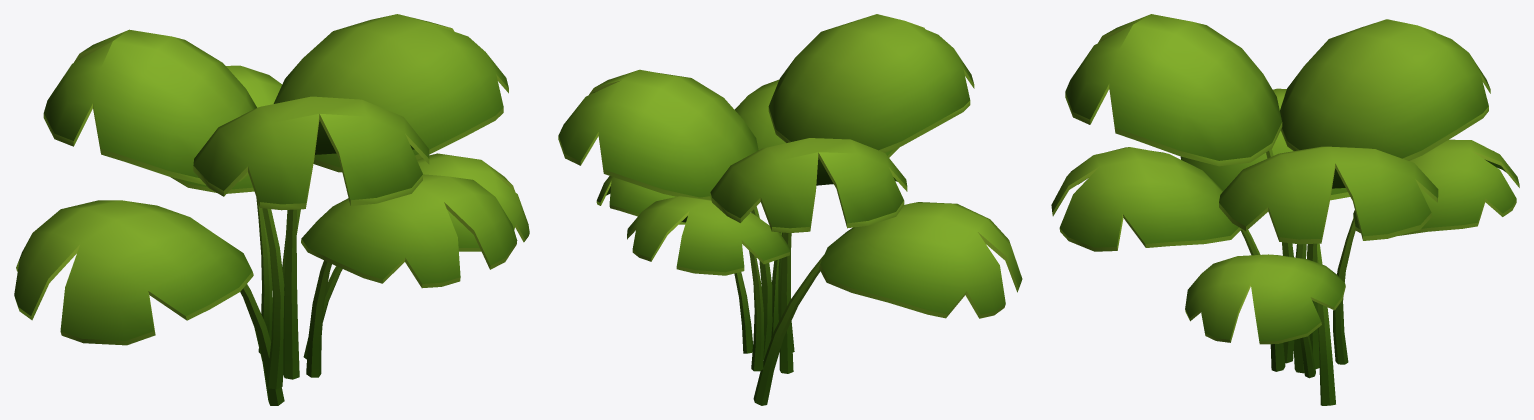
The model's file is mt_prop_p01.fbx.
3 views of the same model, side by side, from view 1: azimuth 30°, elevation 25°; view 2: azimuth 150°, elevation 25°; view 3: azimuth 270°, elevation 25° (orthographic). The views are drawn at different scales.
Visible parts, largest first — view 1: prop_p01; view 2: prop_p01; view 3: prop_p01.
Part boxes in pixels (x1=…): prop_p01: x1=14, y1=14, x2=529, y2=405; prop_p01: x1=558, y1=14, x2=1022, y2=405; prop_p01: x1=1051, y1=14, x2=1519, y2=405.
Size of the model in its own units: 137 by 104 by 125.
